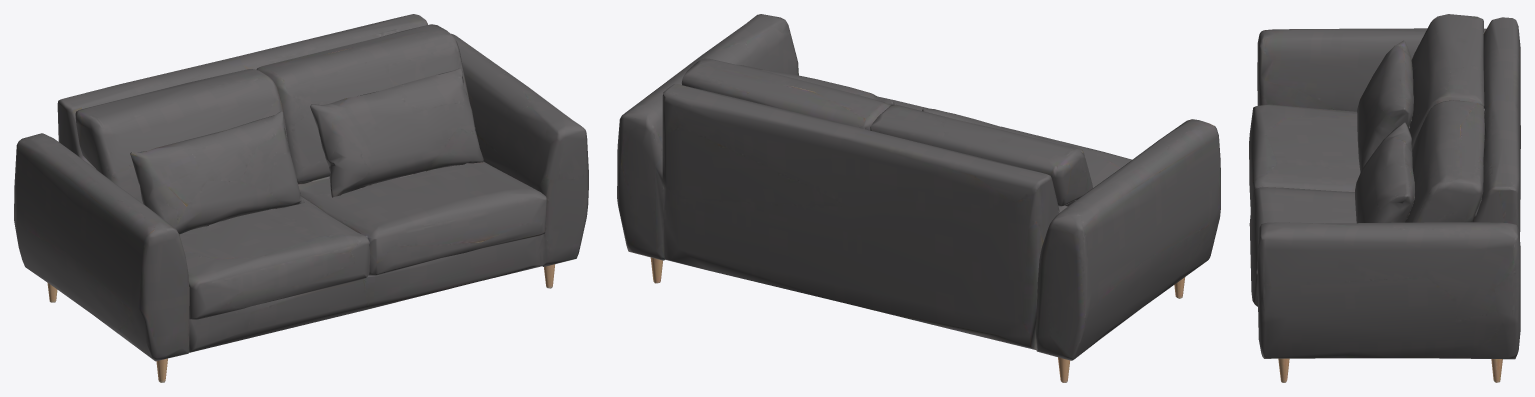
3 views of the same model, side by side, from view 1: azimuth 30°, elevation 25°; view 2: azimuth 150°, elevation 25°; view 3: azimuth 270°, elevation 25° (orthographic). The views are drawn at different scales.
Visible parts, largest first — view 1: 40594377-SLATORP001; view 2: 40594377-SLATORP001; view 3: 40594377-SLATORP001.
Part boxes in pixels (box(x1,y1,x2,y2)): 40594377-SLATORP001: box(14, 14, 588, 382); 40594377-SLATORP001: box(617, 14, 1220, 382); 40594377-SLATORP001: box(1249, 14, 1520, 382).
Size of the model in its own units: 1.76 by 0.7499 by 0.95.
Materials: 2 (2 with a texture image).
